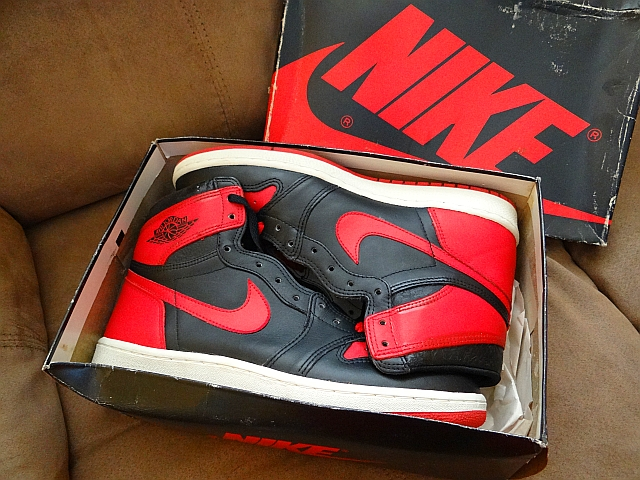Air Jordan 1 Bred: (84, 174, 504, 440), (167, 146, 527, 392)
